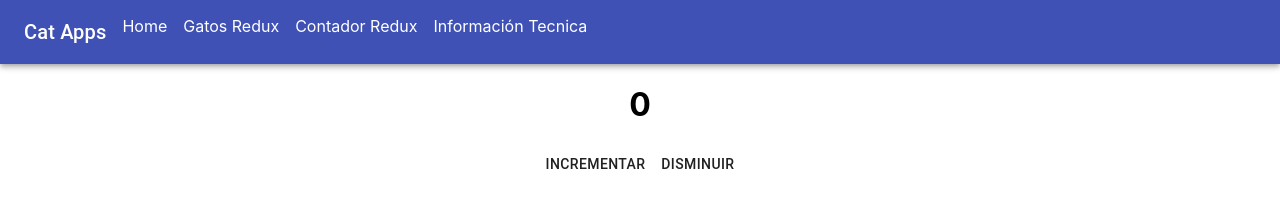
Test: Counter component › should increment by 1 if you click the Increment button, counter must be 1
Step 1. Click the button "Incrementar" → x=596, y=165, box [538,146,654,183]
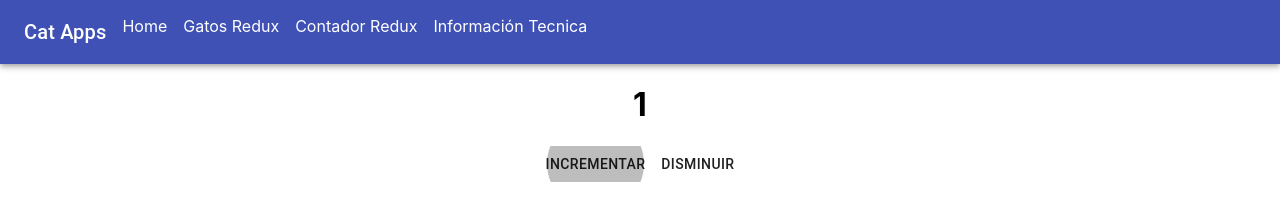
Now the heading with test id "counterDisplay" reads "1", box [633,85,647,124]
